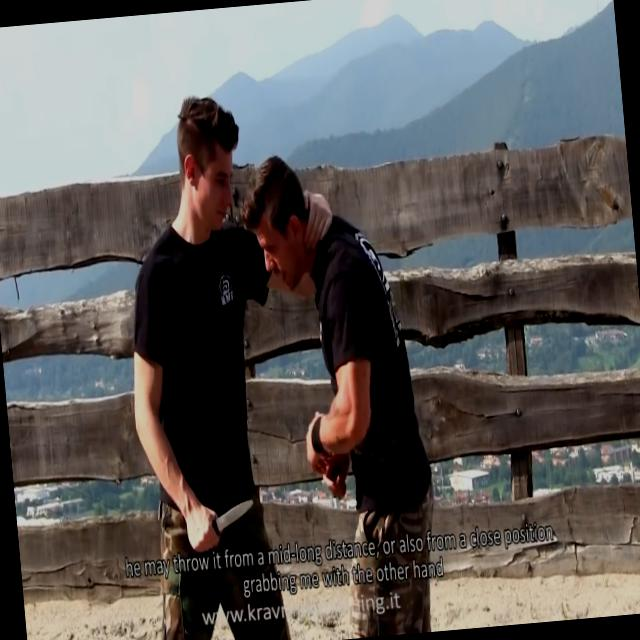knife: (182, 488, 260, 556)
